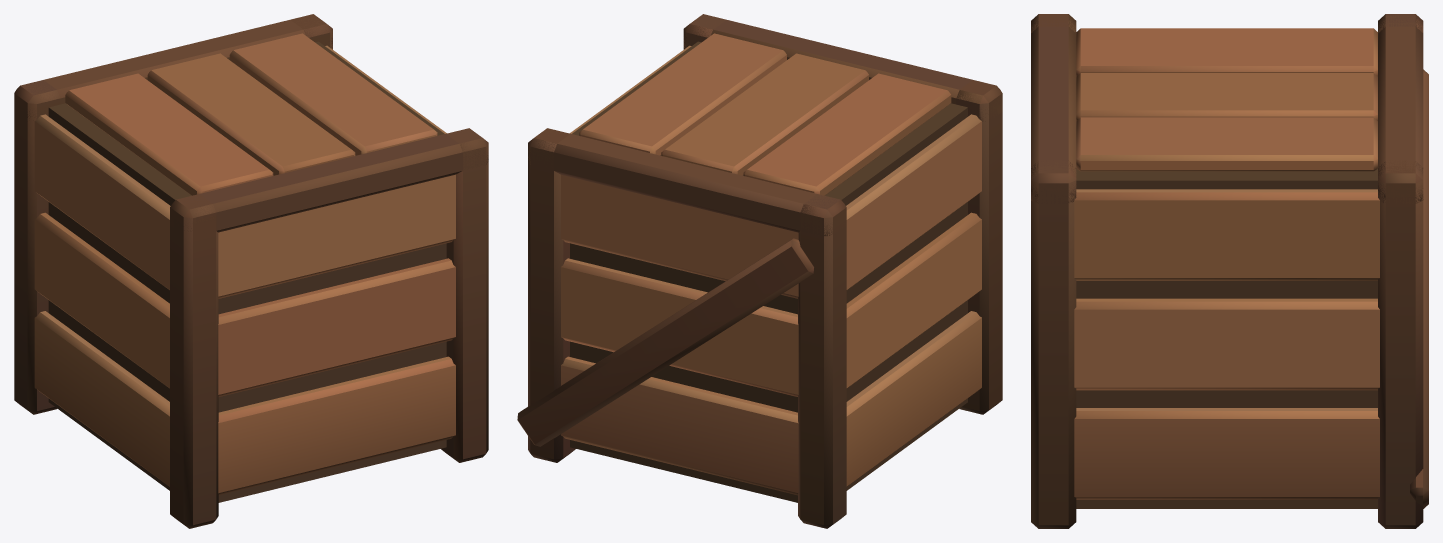
File: crate.glb
3 views of the same model, side by side, from view 1: azimuth 30°, elevation 25°; view 2: azimuth 150°, elevation 25°; view 3: azimuth 270°, elevation 25° (orthographic). The views are drawn at different scales.
Visible parts, largest first — view 1: crate; view 2: crate; view 3: crate.
Part boxes in pixels (left/top/right/bottom): crate: left=14, top=14, right=488, bottom=528; crate: left=517, top=14, right=1002, bottom=528; crate: left=1031, top=14, right=1428, bottom=528.
Bounding box in the file's own units: 0.5324 × 0.523 × 0.5275.
